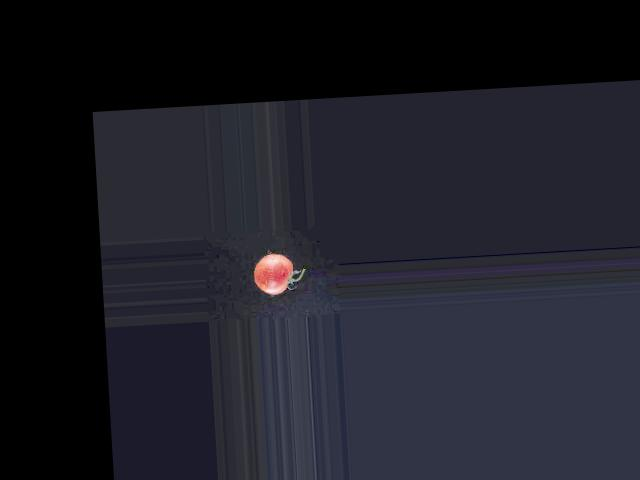tomato: (252, 252, 295, 295)
